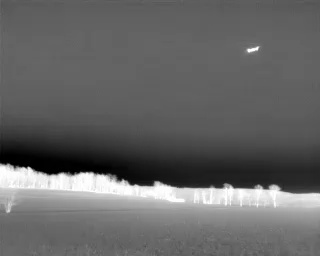DRONE: (243, 41, 264, 57)
